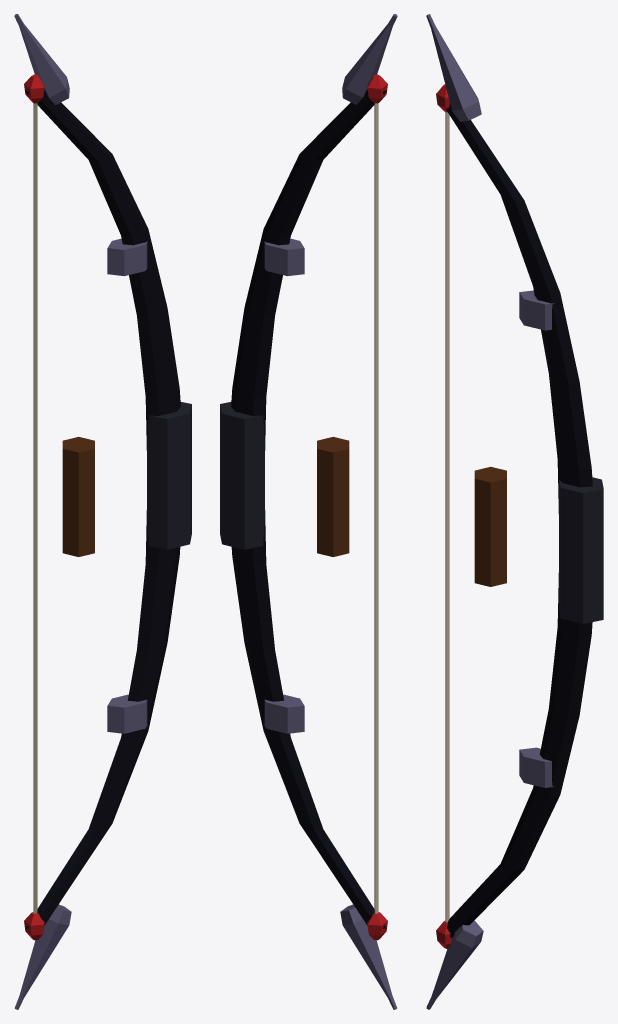
File: wpn_bow_9.glb
The picture shows the model from 3 angles, left to right: view 1: azimuth 30°, elevation 25°; view 2: azimuth 150°, elevation 25°; view 3: azimuth 330°, elevation 25°; orthographic projection.
Visible parts, largest first — view 1: wpn_bow_9; view 2: wpn_bow_9; view 3: wpn_bow_9.
Part boxes in pixels (x1,y1,x2,y2): wpn_bow_9: (14,14,191,1009); wpn_bow_9: (220,14,397,1009); wpn_bow_9: (426,14,603,1009).
Size of the model in its own units: 0.2839 by 1.52 by 0.052.
